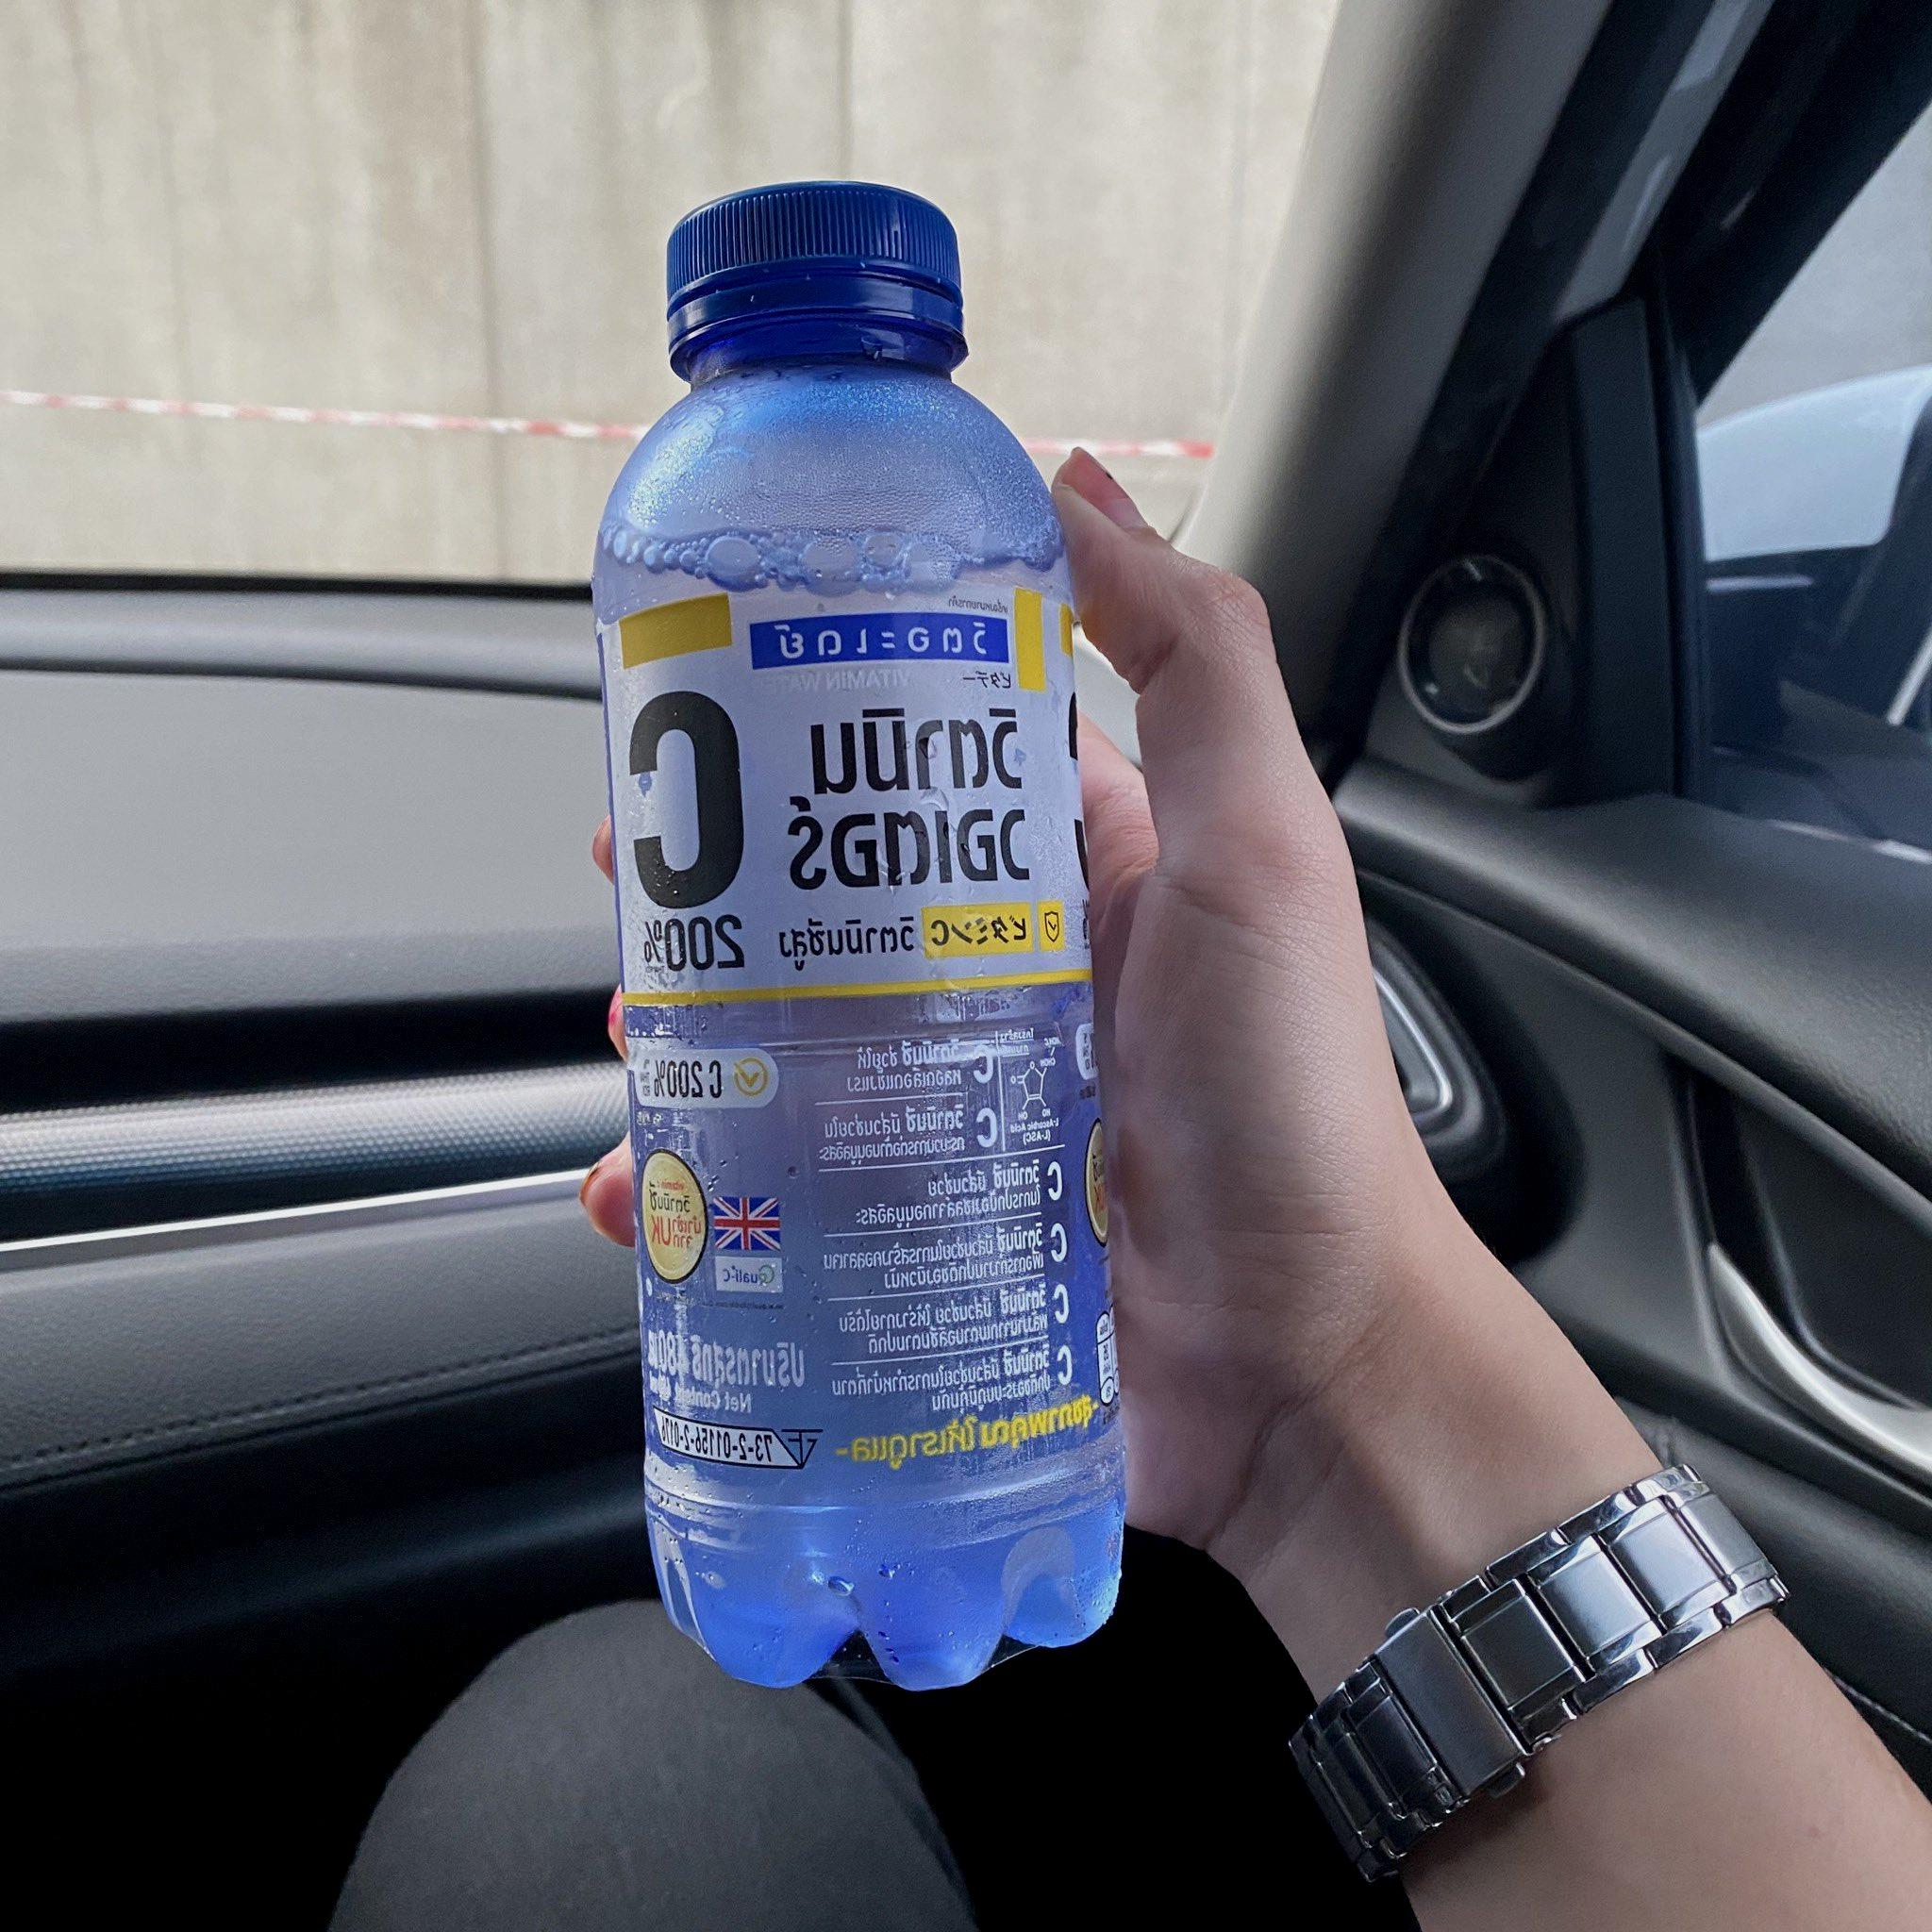bottle: (559, 149, 1189, 1720)
